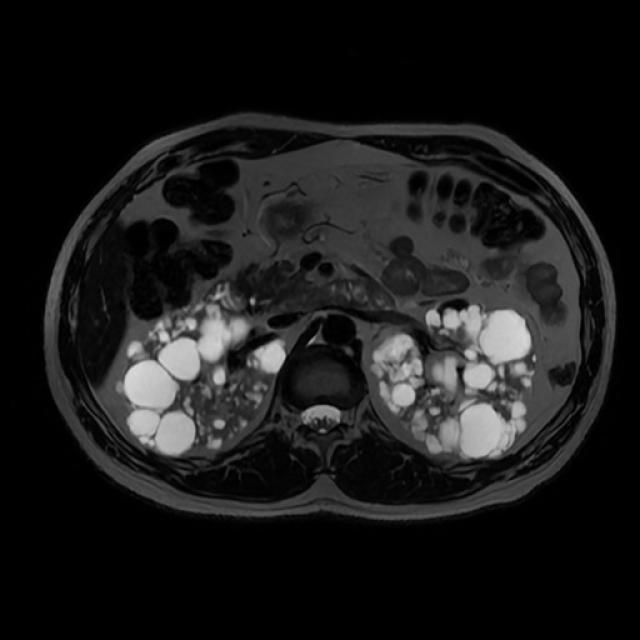sag: (116, 305, 288, 455)
sol: (372, 302, 537, 460)
